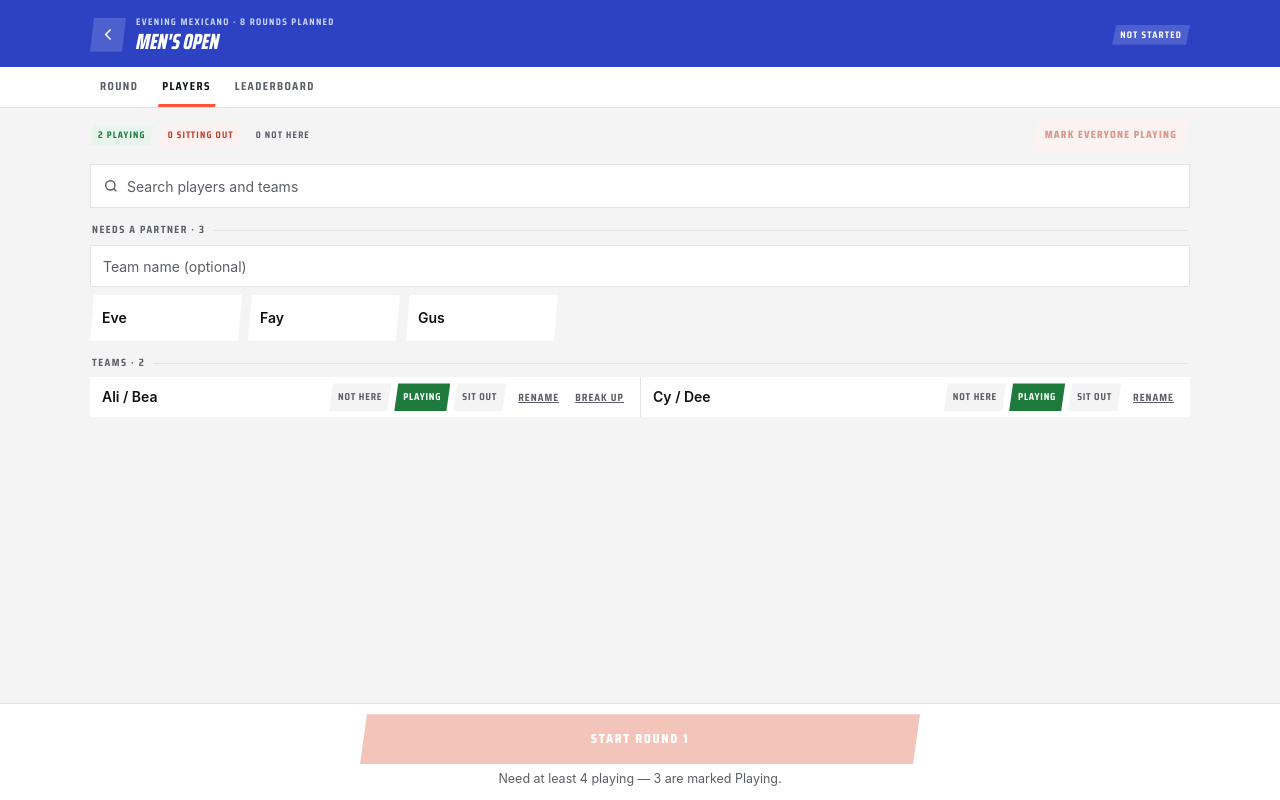
it: offers Break up only on teams that have not been drawn yet
expect the heading "Needs a partner · 3" is shown: met, box [92,221,205,238]
Click the button with aria-label "Break up Ali / Bea" at (600, 397), box [571,379,628,415]
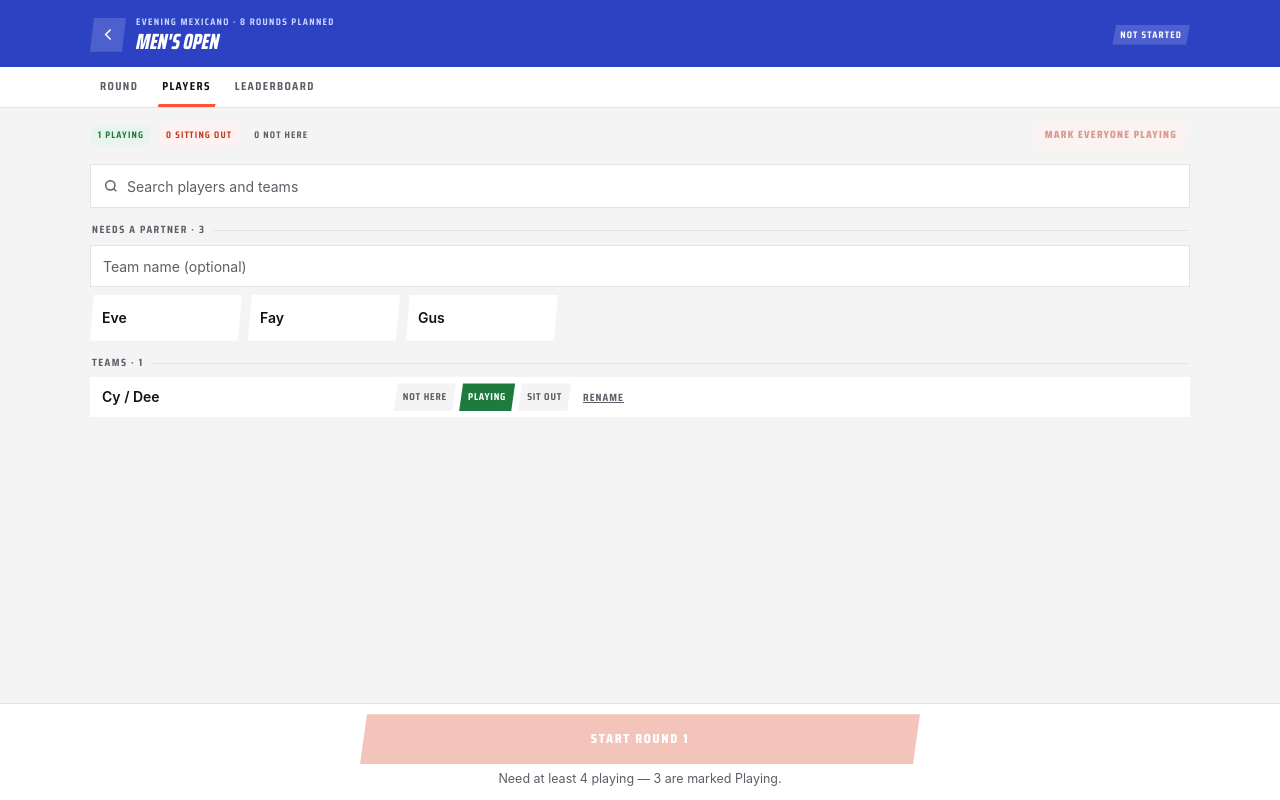
expect the button "Break up" is gone: met
